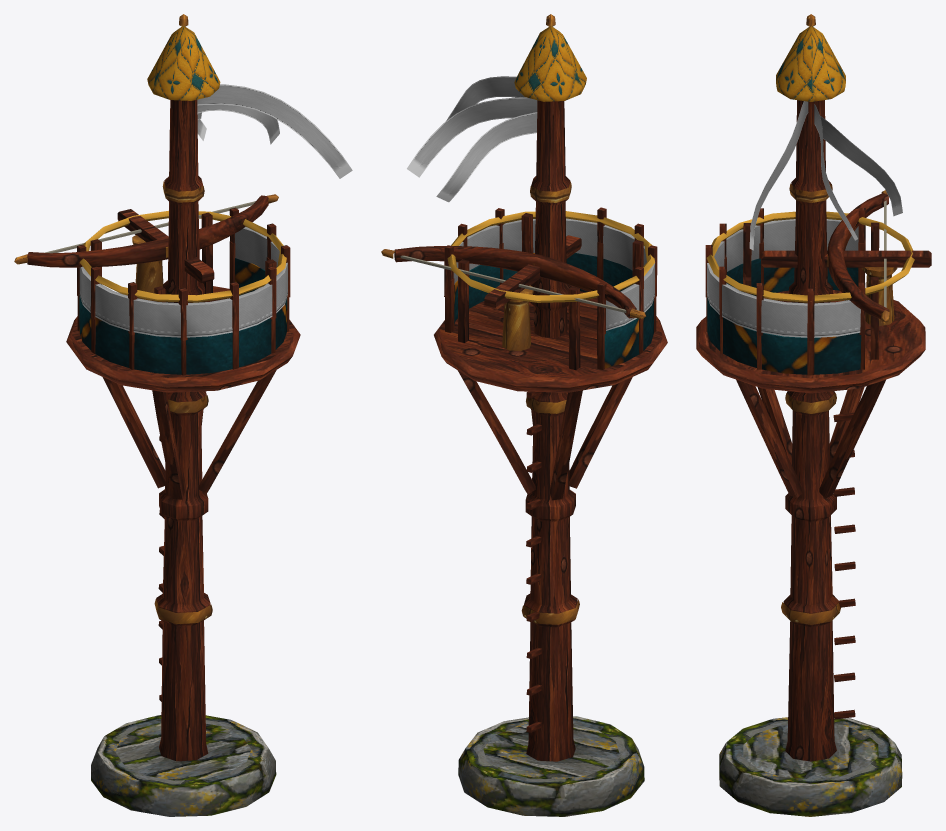
File: clans_bow_mast.glb
3 views of the same model, side by side, from view 1: azimuth 30°, elevation 25°; view 2: azimuth 150°, elevation 25°; view 3: azimuth 270°, elevation 25° (orthographic).
Parts seen in each view (by area): view 1: clans_bow_mast; view 2: clans_bow_mast; view 3: clans_bow_mast.
Boxes of the visible parts, x1,y1,x2,y2 form: clans_bow_mast: (14, 14, 352, 816); clans_bow_mast: (381, 14, 667, 816); clans_bow_mast: (696, 14, 931, 816).
Bounding box in the file's own units: 2.29 × 6.17 × 1.72.
Materials: 2 (2 with a texture image).
